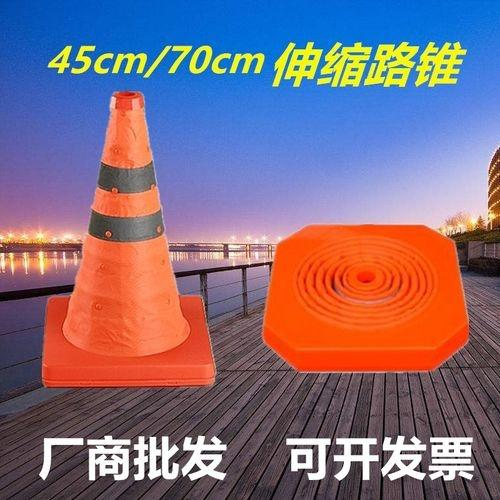cone_barrel: (59, 89, 199, 358)
